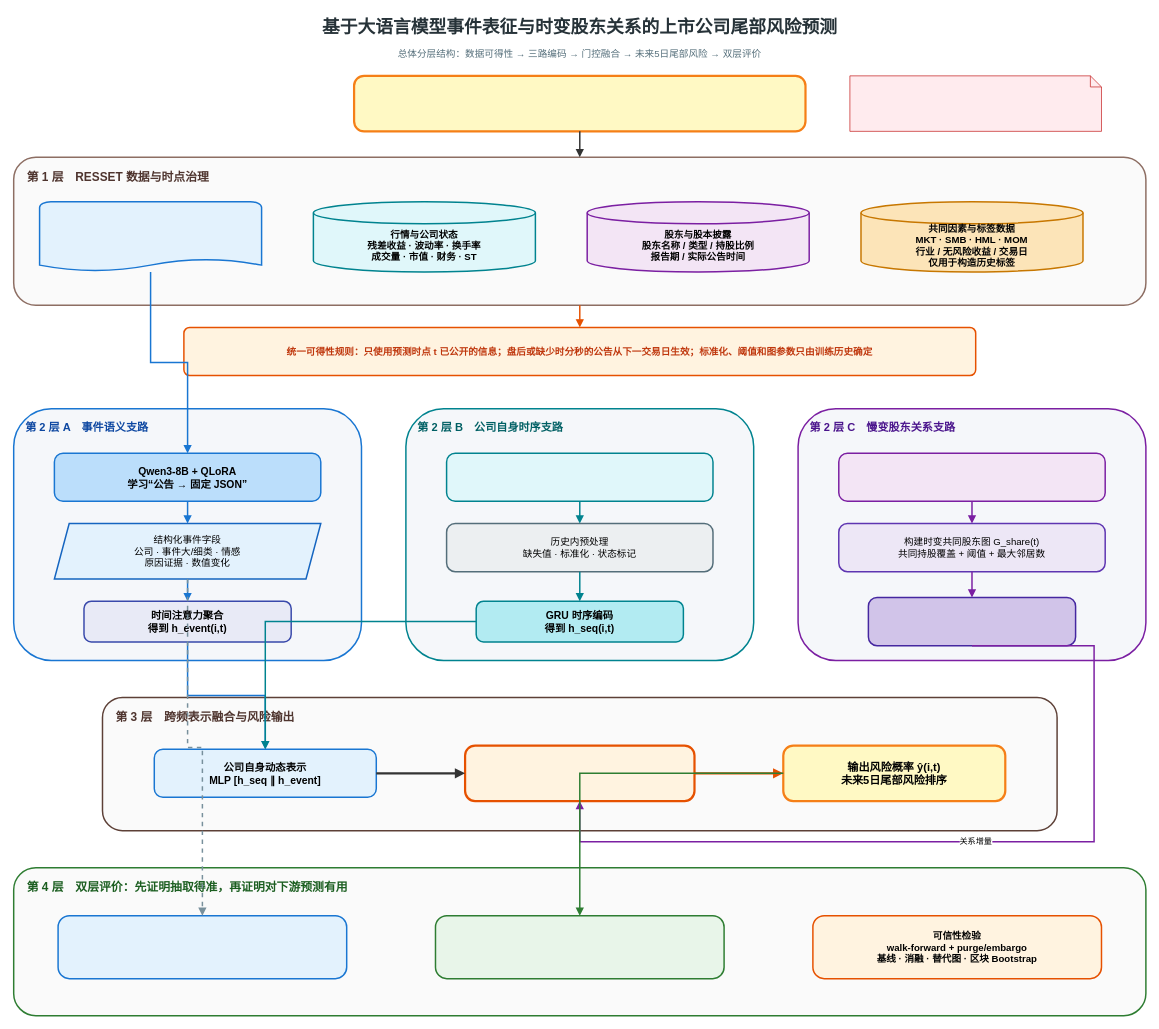
Image size: 1159x1029. Some labels were removed from this diagram. The shapes that lost their labels are listed below. From the top down, each one's centre as x and y in pixels, then its label:
the point at 579,103: 研究目标 预测上市公司未来 5 个交易日是否发生因子模型下的异常下跌
the point at 975,103: 研究边界：检验样本外预测增益，不直接声称识别因果传染
the point at 150,236: 公告文本 重大事项 · 业绩预告 标题 / 正文 / 原因 / 数值
the point at 579,477: 历史窗口 X(i,t−L+1:t) 收益 · 波动 · 换手 · 财务等
the point at 972,477: 股东实体归一与时点对齐 机构优先 · 记录披露陈旧度
the point at 971,621: GraphSAGE 关系聚合 输入：h_self + G_share(t) 得到 h_rel(i,t)
the point at 579,773: 自适应门控融合 自身动态信息 ↔ 关系信息
the point at 202,947: 事件抽取评价 Macro F1 · span F1 · 数值准确率 JSON 有效率 · 严格匹配率
the point at 579,947: 风险预测评价 主指标 PR-AUC；辅助 Recall@K、F1 ROC-AUC、Brier、ECE
